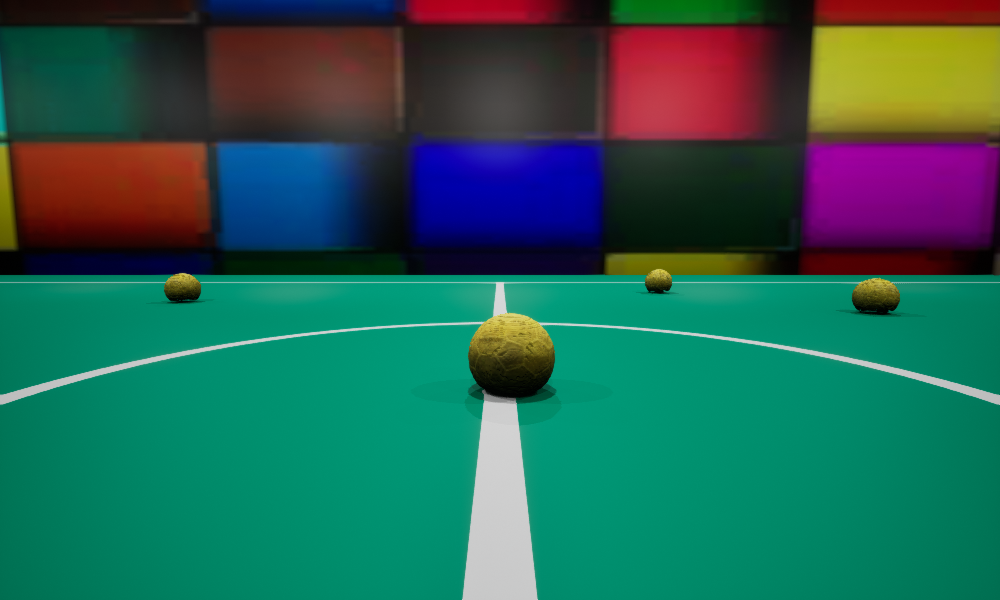b: (468, 313, 554, 396), (852, 278, 899, 313), (164, 273, 200, 302), (645, 269, 671, 292)
